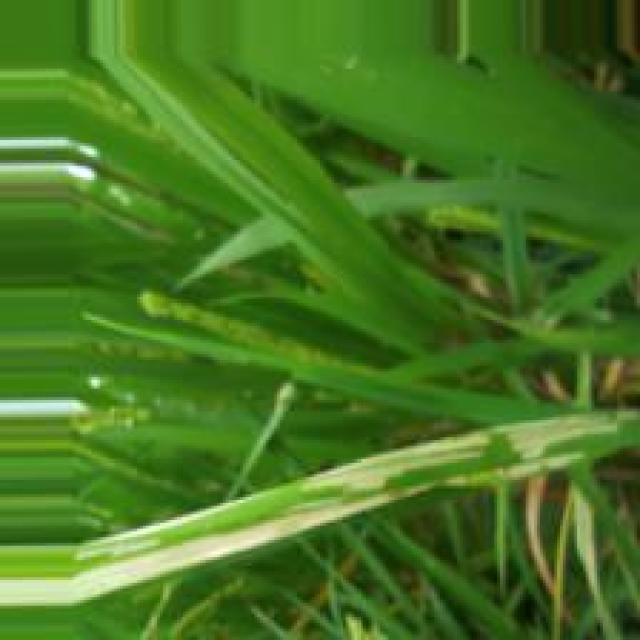Rice_Hispa: (2, 493, 408, 612), (302, 409, 640, 494)
